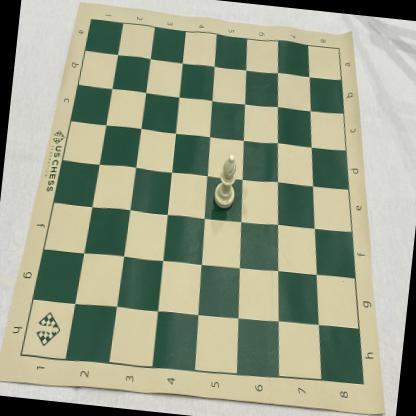bishop: (212, 152, 239, 210)
